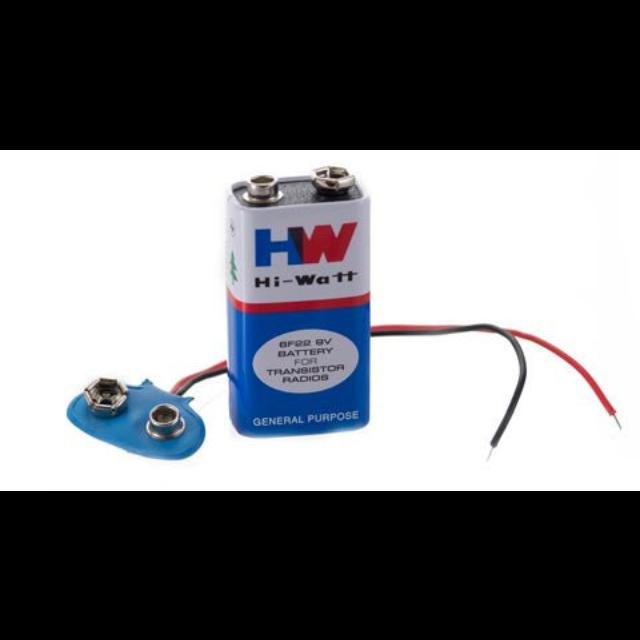Battery: (223, 165, 371, 438)
